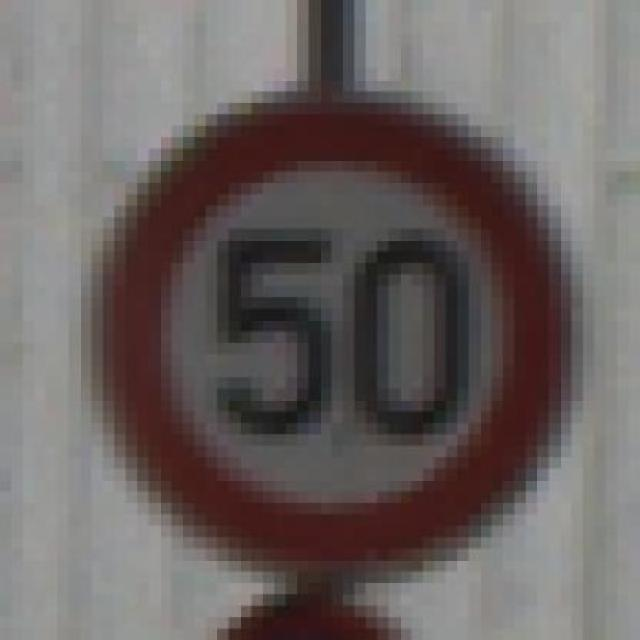forb_speed_over_50: (114, 98, 563, 567)
